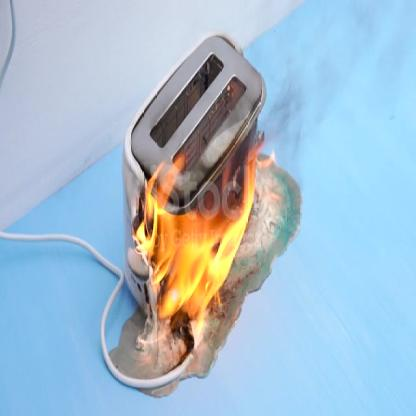fire: (131, 127, 278, 340)
